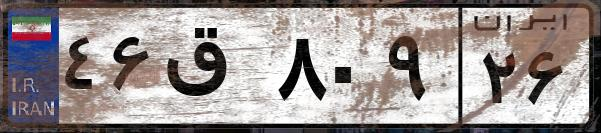0: (330, 28, 385, 110)
2: (475, 38, 525, 113)
4: (57, 26, 110, 100)
6: (525, 38, 570, 115), (110, 28, 158, 98)
8: (270, 28, 330, 110)
9: (385, 28, 445, 110)
ق: (158, 20, 270, 120)
